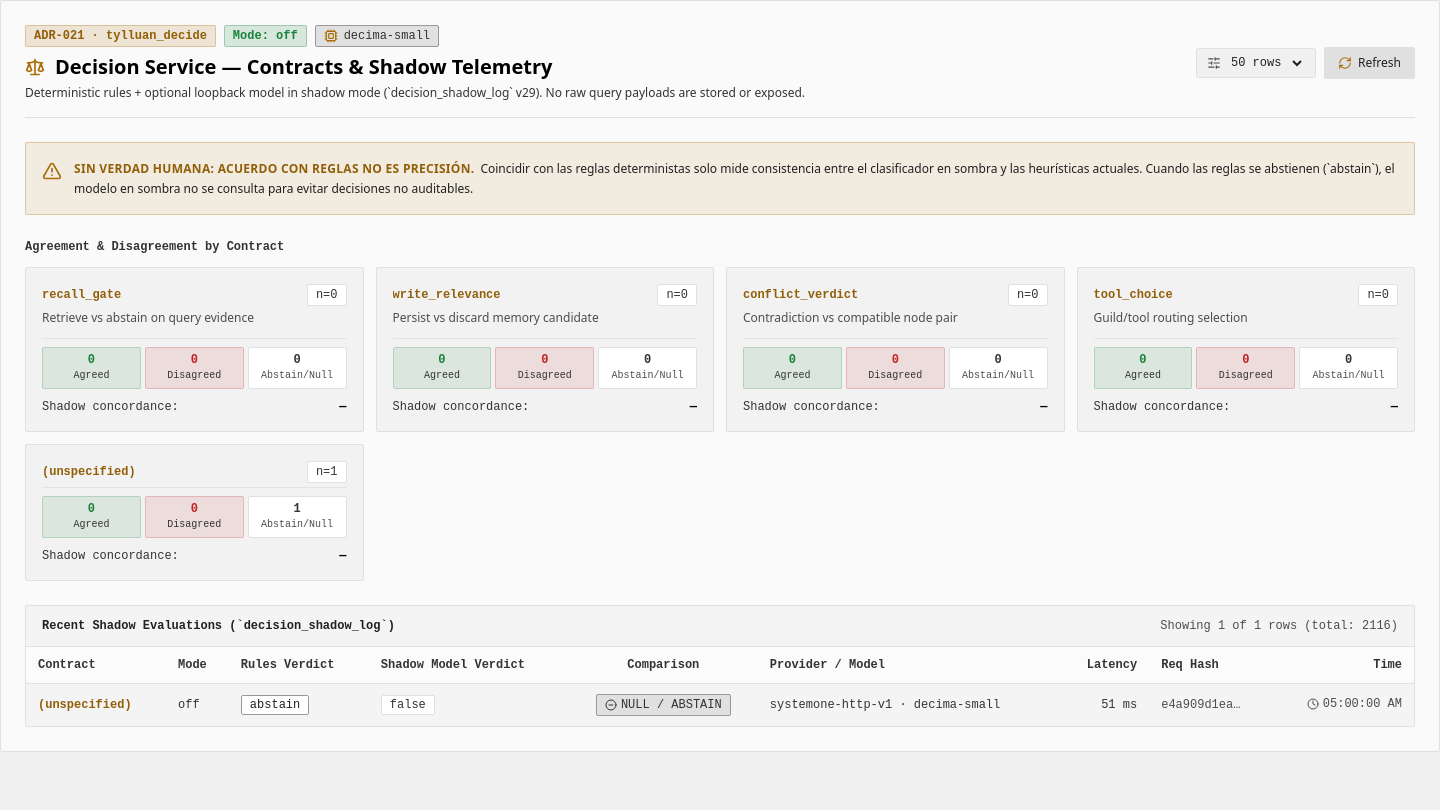
Test: DecisionServicePanel (D1) › shows filter-specific empty state and reset button when total > 0 but 0 filtered rows match
Check: the text "Showing 1 of 1 rows (total: 2116)" is shown, box top-left (1160, 618), bottom-right (1398, 634)
// Click recall_gate contract card to filter by a contract with 0 rows
Click the button "recall_gate": (194, 350) top-left (25, 267), bottom-right (364, 432)
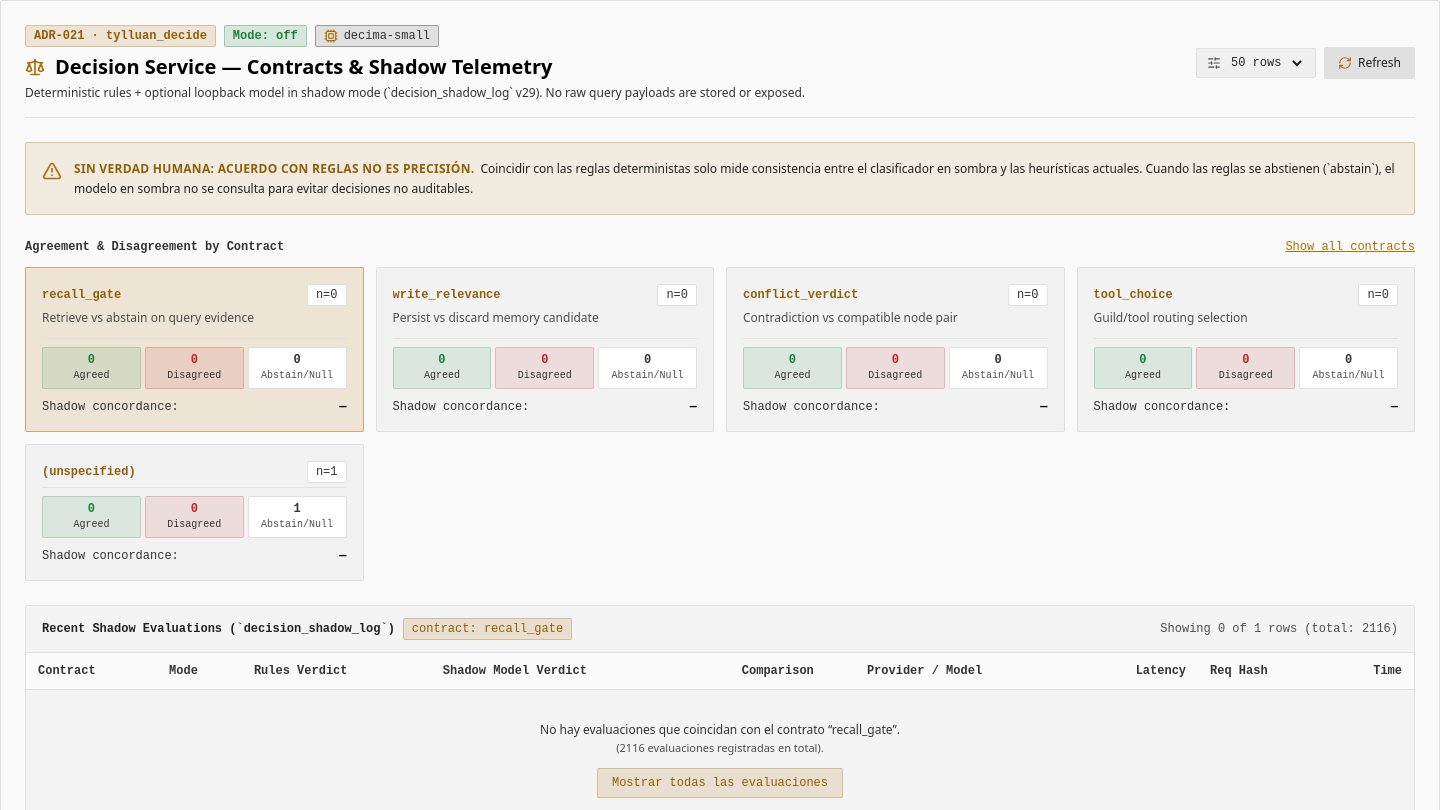
Check: the text "Showing 0 of 1 rows (total: 2116)" is shown, box top-left (1160, 621), bottom-right (1398, 637)
Check: the text "No hay evaluaciones que coincidan con el contrato" is shown, box top-left (540, 721), bottom-right (832, 738)
Check: the text "(2116 evaluaciones registradas en total)." is shown, box top-left (616, 740), bottom-right (824, 755)
Click the button "Mostrar todas las evaluaciones": (720, 783) top-left (597, 768), bottom-right (843, 798)
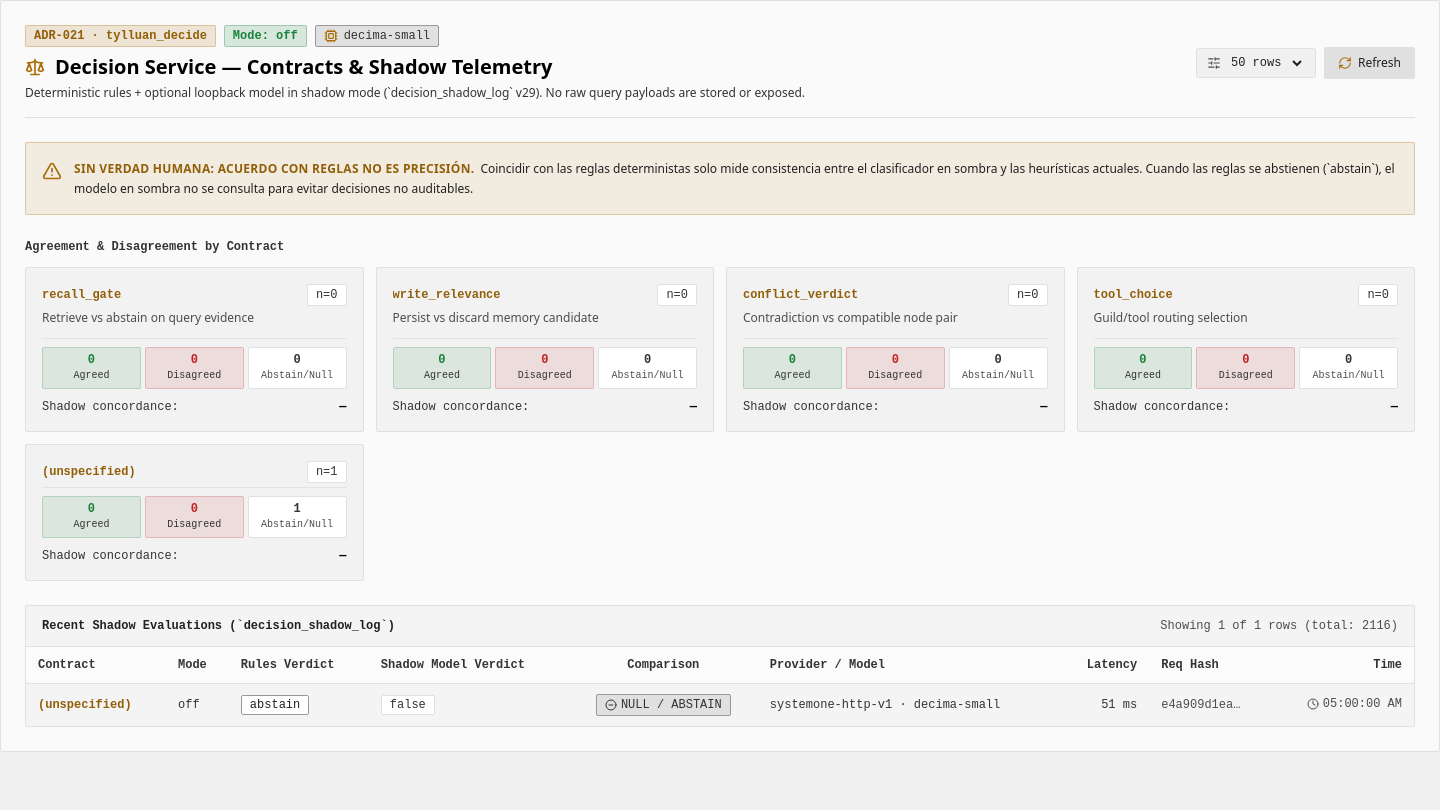
Check: the text "Showing 1 of 1 rows (total: 2116)" is shown, box top-left (1160, 618), bottom-right (1398, 634)
